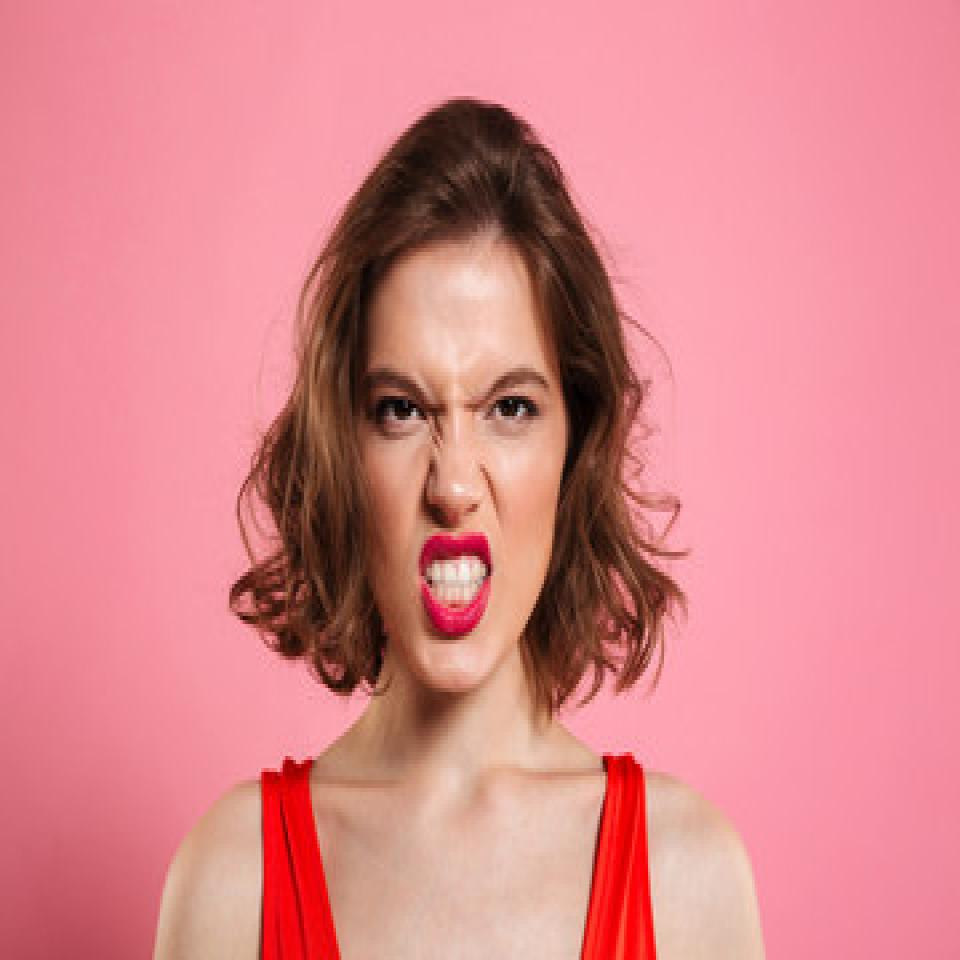Anger: (342, 256, 566, 696)
